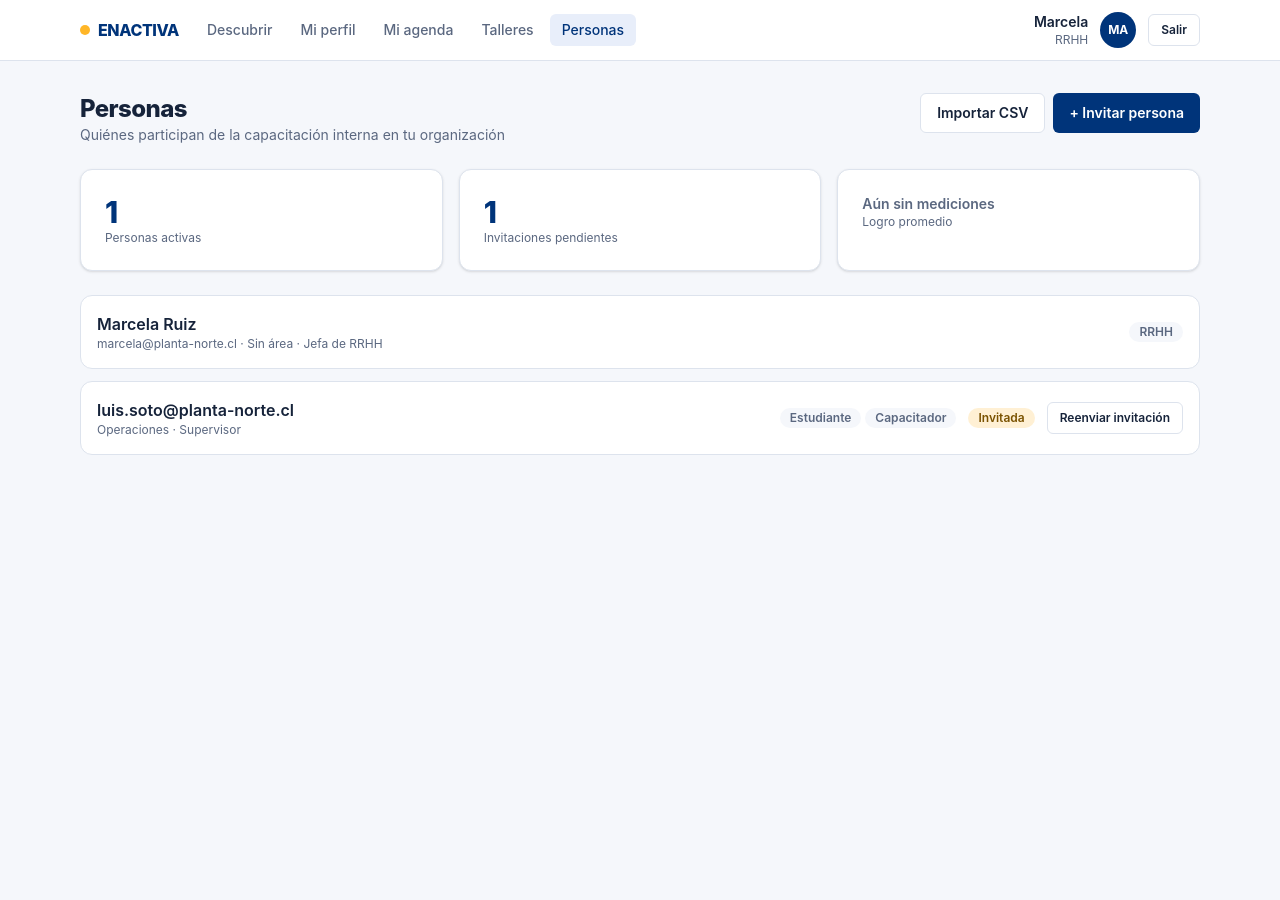
Pantalla de Personas (RRHH) › invita a una persona nueva con su rol y su área
Click the button "+ Invitar persona" at (1127,113), box [1053,93,1200,133]
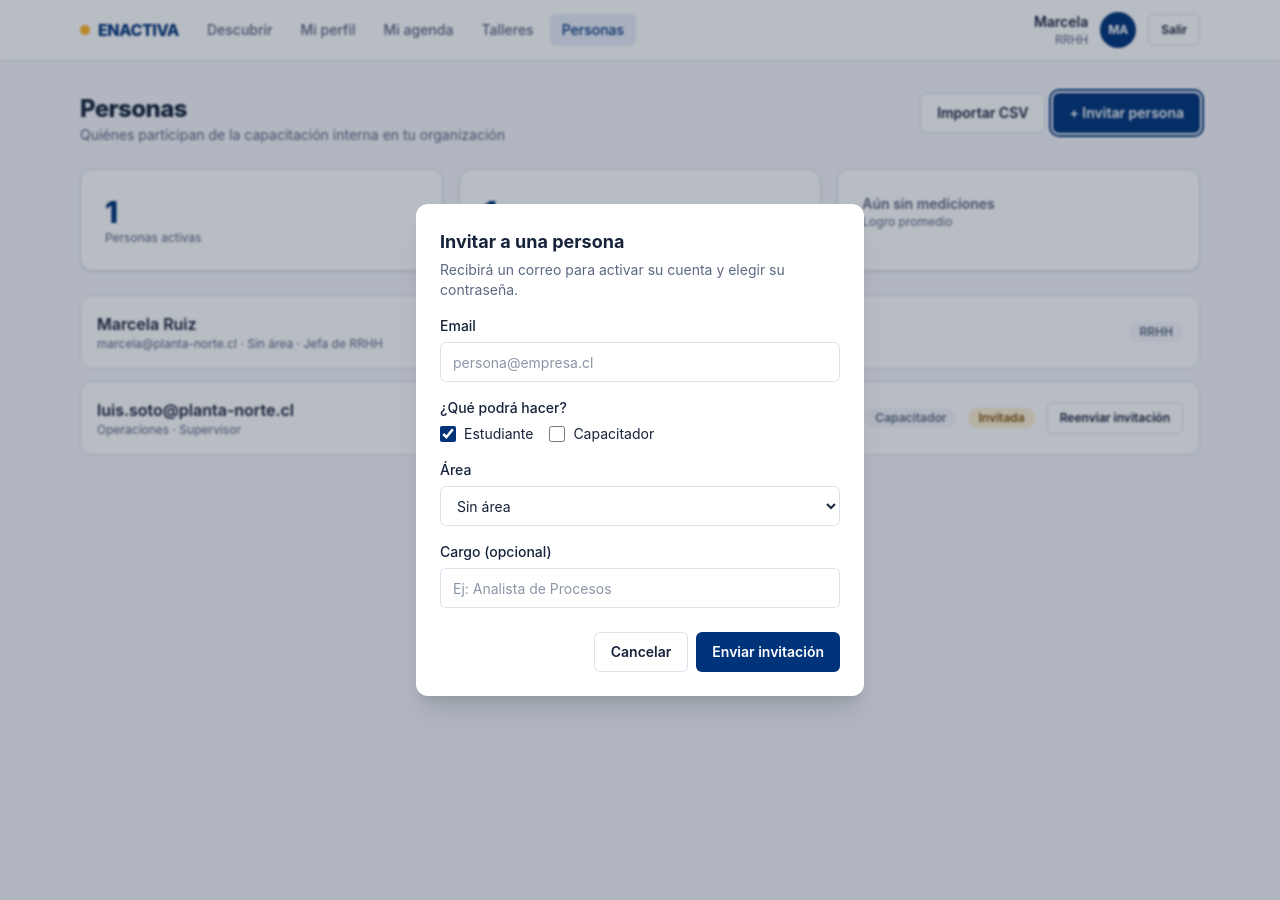
Type "luis.soto@planta-norte.cl" into the field labelled "Email" at (640,362), box [440,342,840,382]
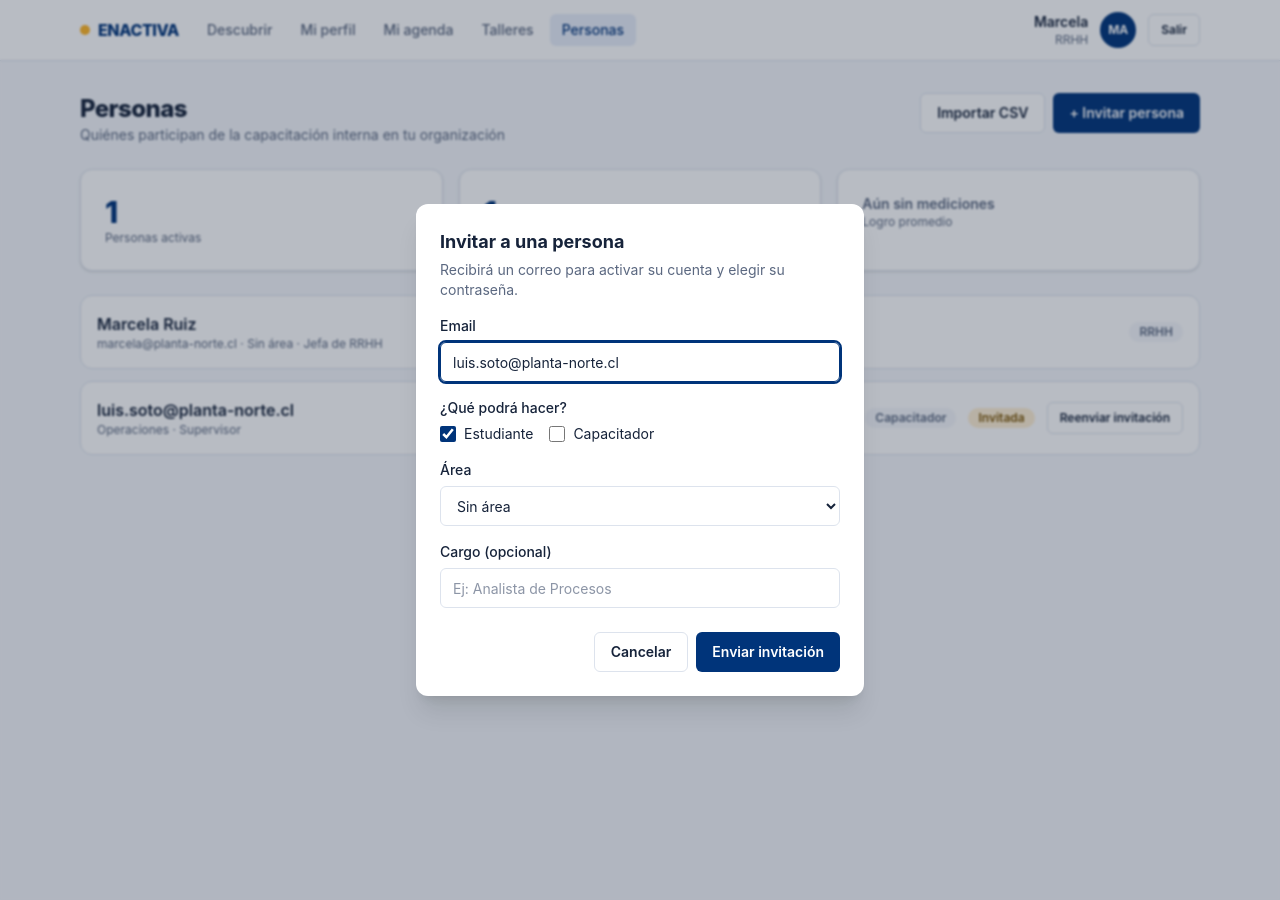
Click the checkbox labelled "Capacitador" at (557,434), box [549,426,565,442]
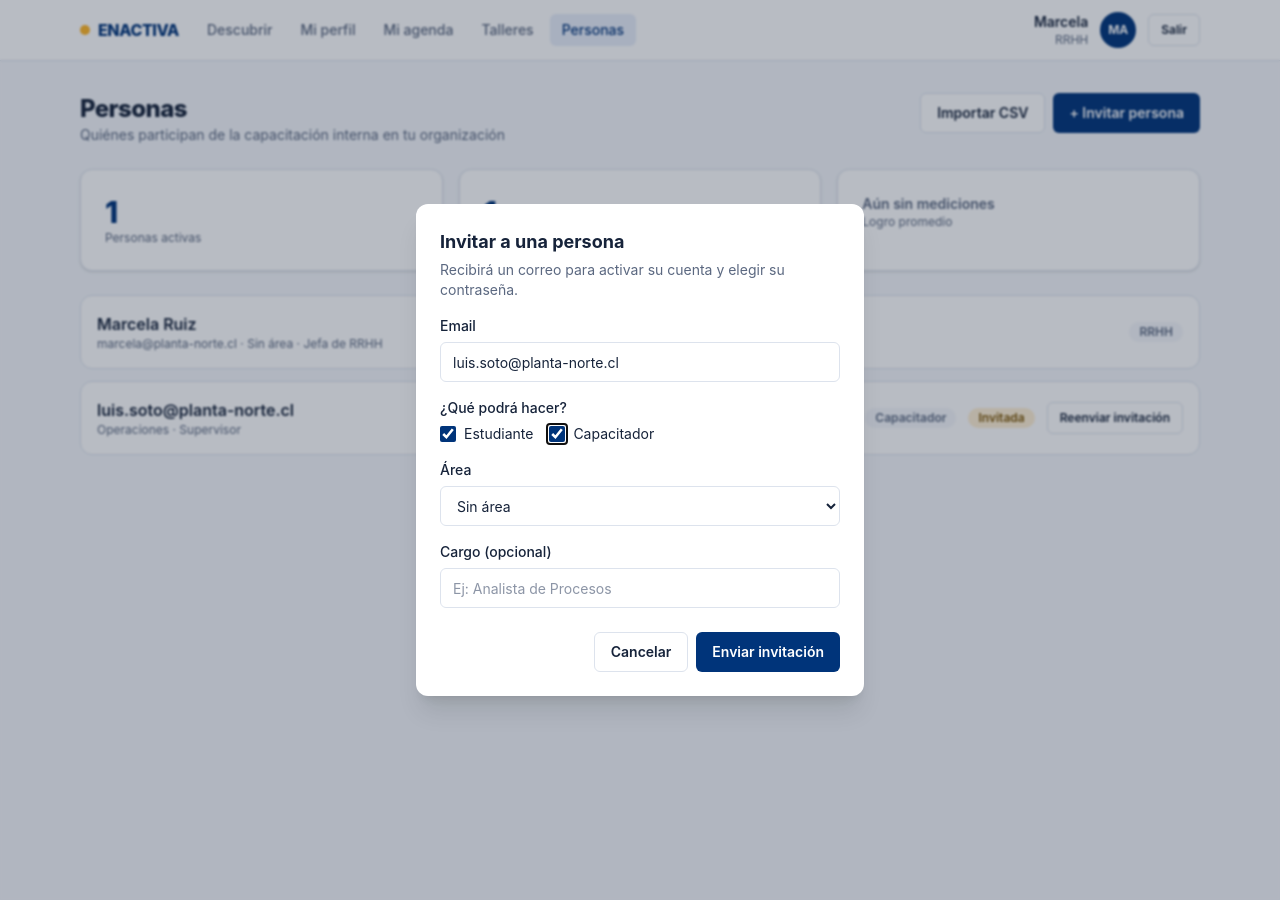
Select "Operaciones" in the dropdown labelled "Área" at (640,506), box [440,486,840,526]
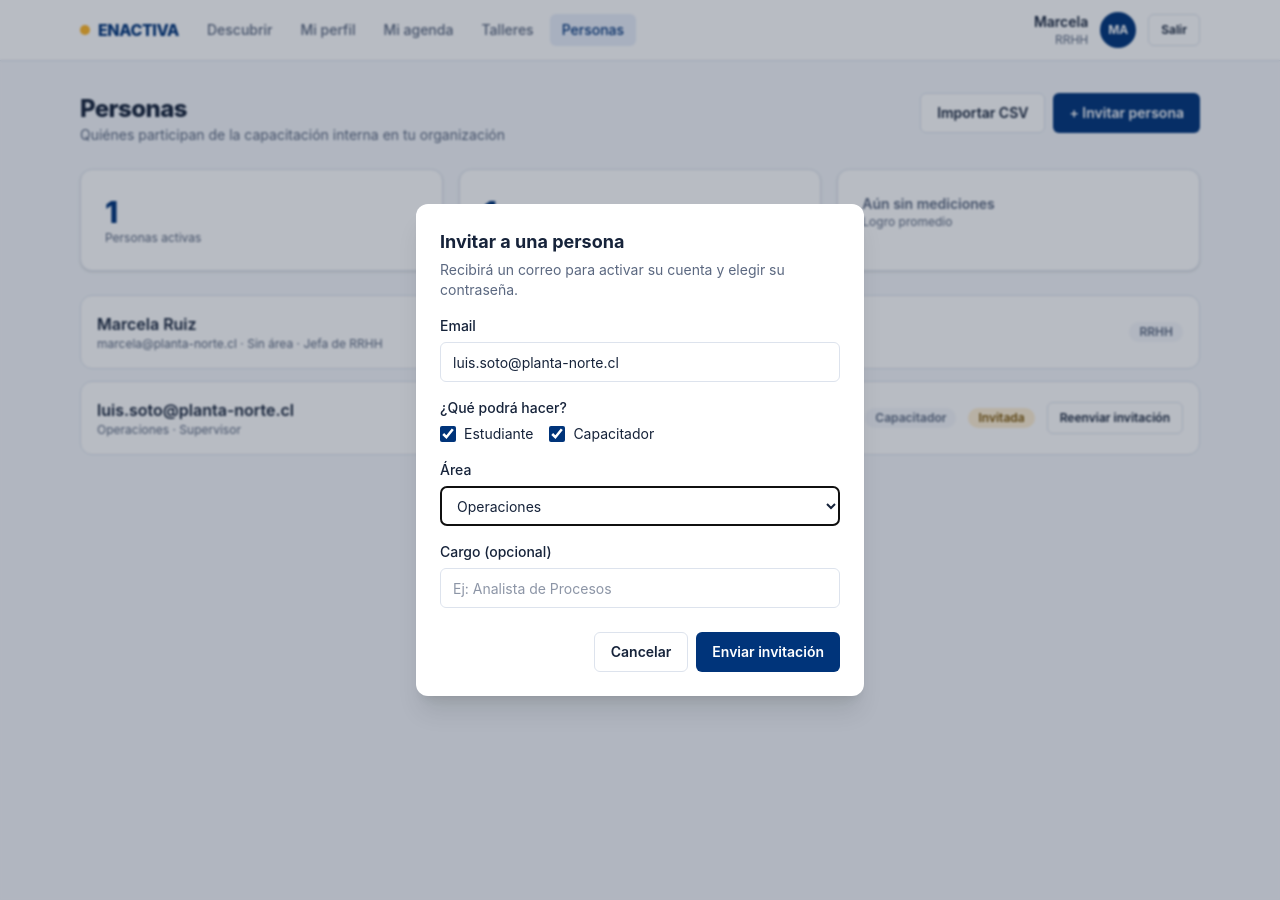
Click the button "Enviar invitación" at (768,652), box [696,632,840,672]
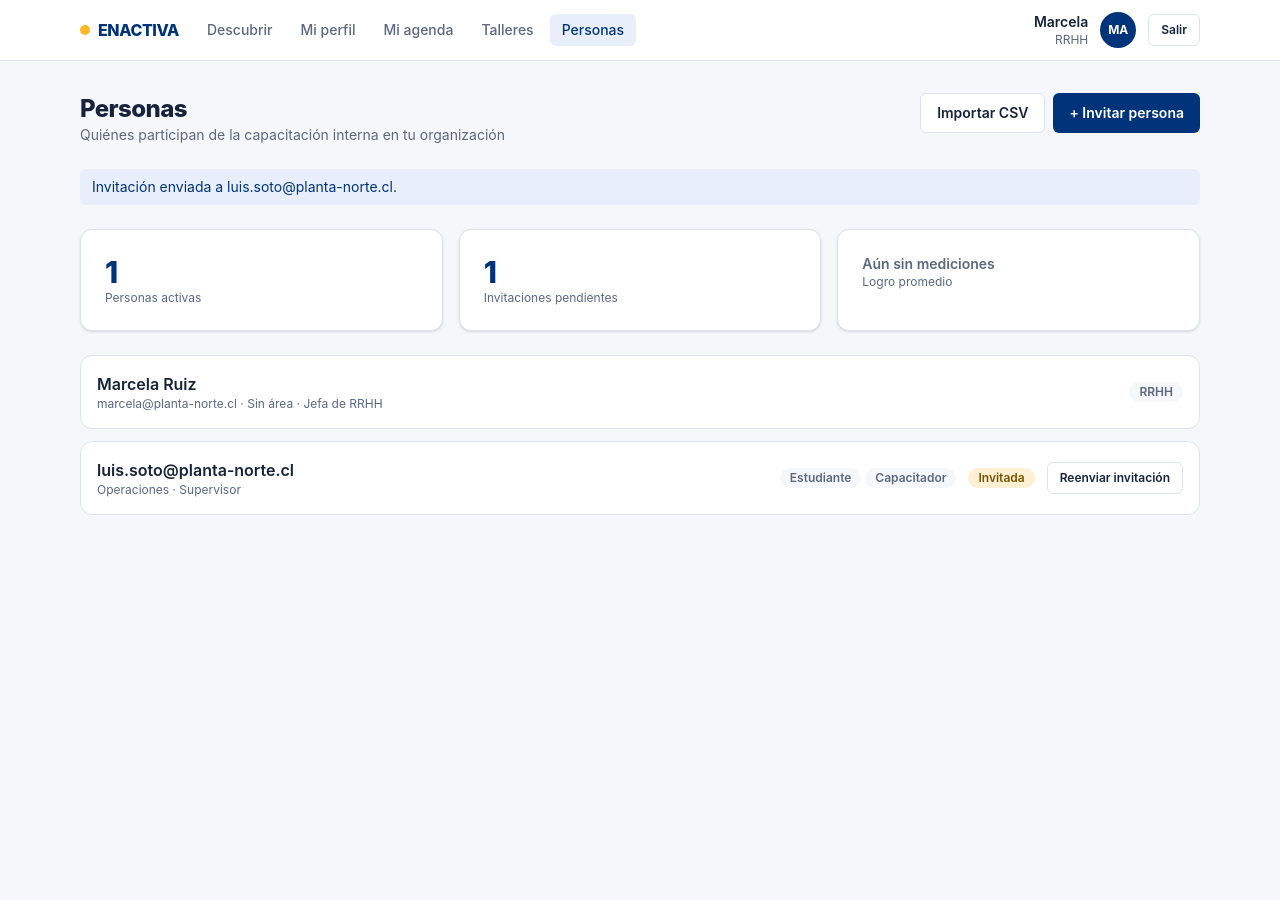
Result: the message shows "Invitación enviada a" at [92,178,397,195]
